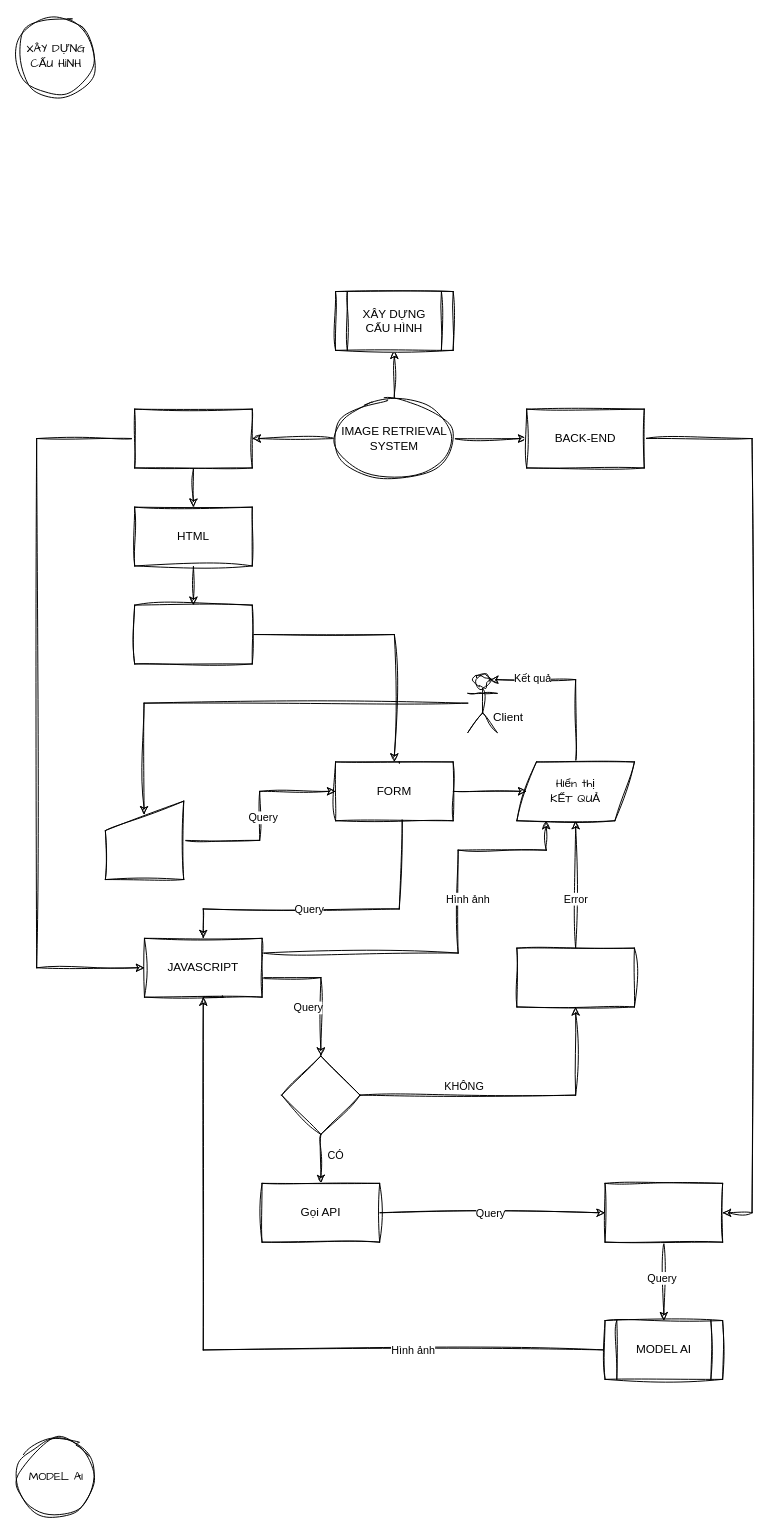
Image size: 777x1534. Some labels were removed from this diagram. The box of each missing label's shape, as (x1, y1, x2, y2) in pixels:
FRONT-END: (134, 408, 252, 468)
Gửi ERROR: (516, 947, 634, 1007)
Hiển thị: (134, 604, 252, 664)
Kiểm tra hợp lệ: (281, 1055, 360, 1134)
Nhập QUERY: (104, 800, 184, 880)
PYTHON /FLASK: (604, 1182, 723, 1242)
